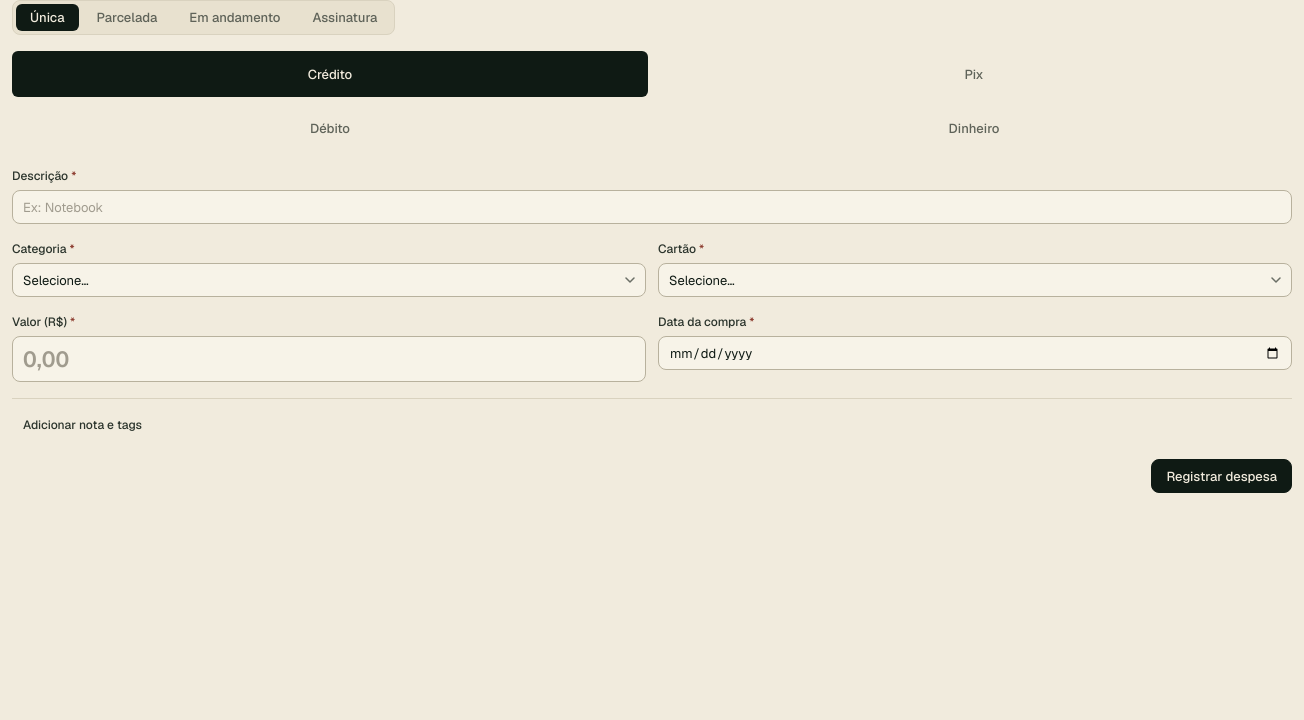
Test: nota e tags no cadastro de despesa › resume o que já foi preenchido no rótulo do gatilho
Click the button "Adicionar nota e tags": point(82, 425) [12,411,153,439]
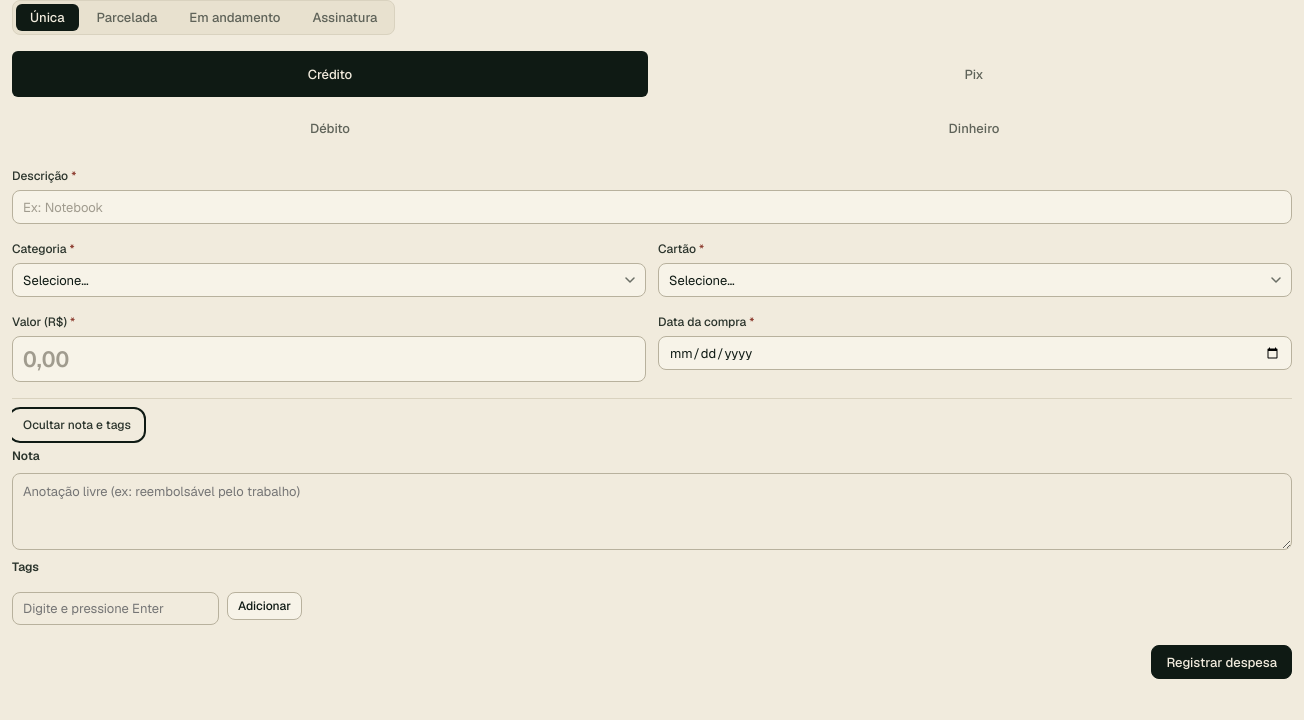
In the field named "Nova tag": point(116, 608) [12,592,219,625], type "trabalho"
Then press Enter
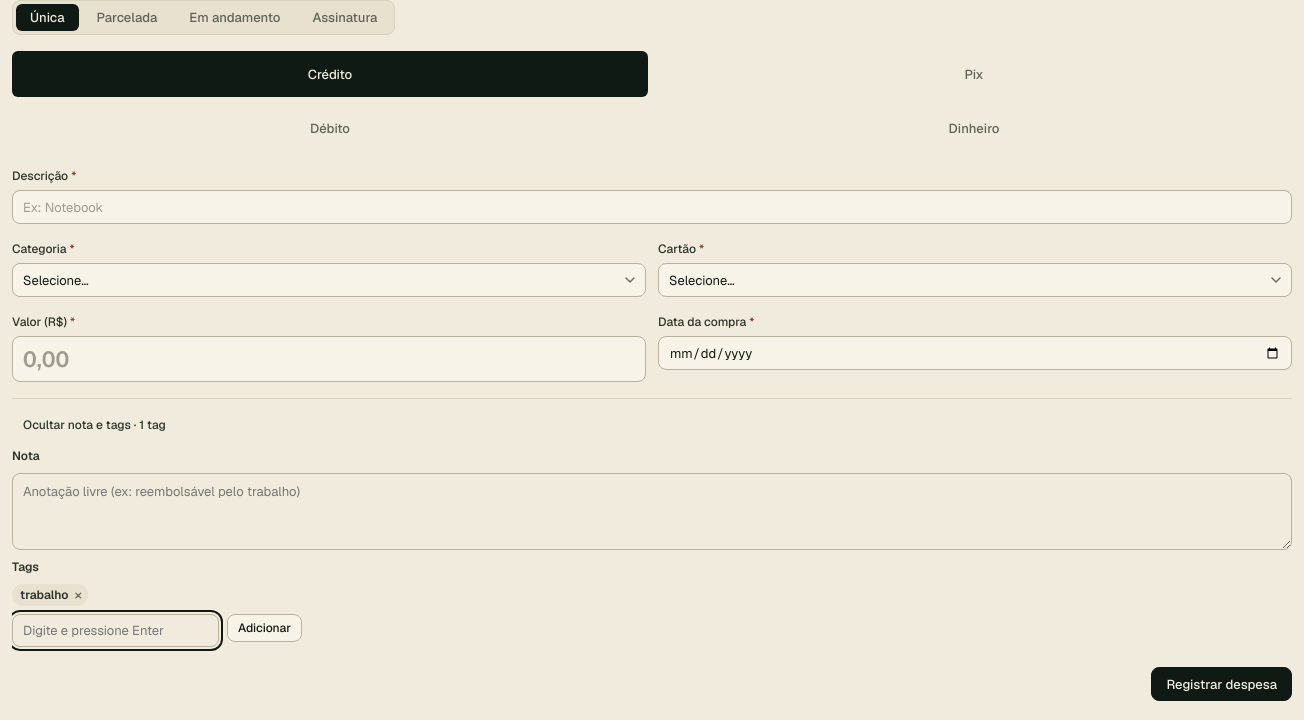
In the field named "Nova tag": point(116, 630) [12,614,219,647], type "casa"
Then press Enter
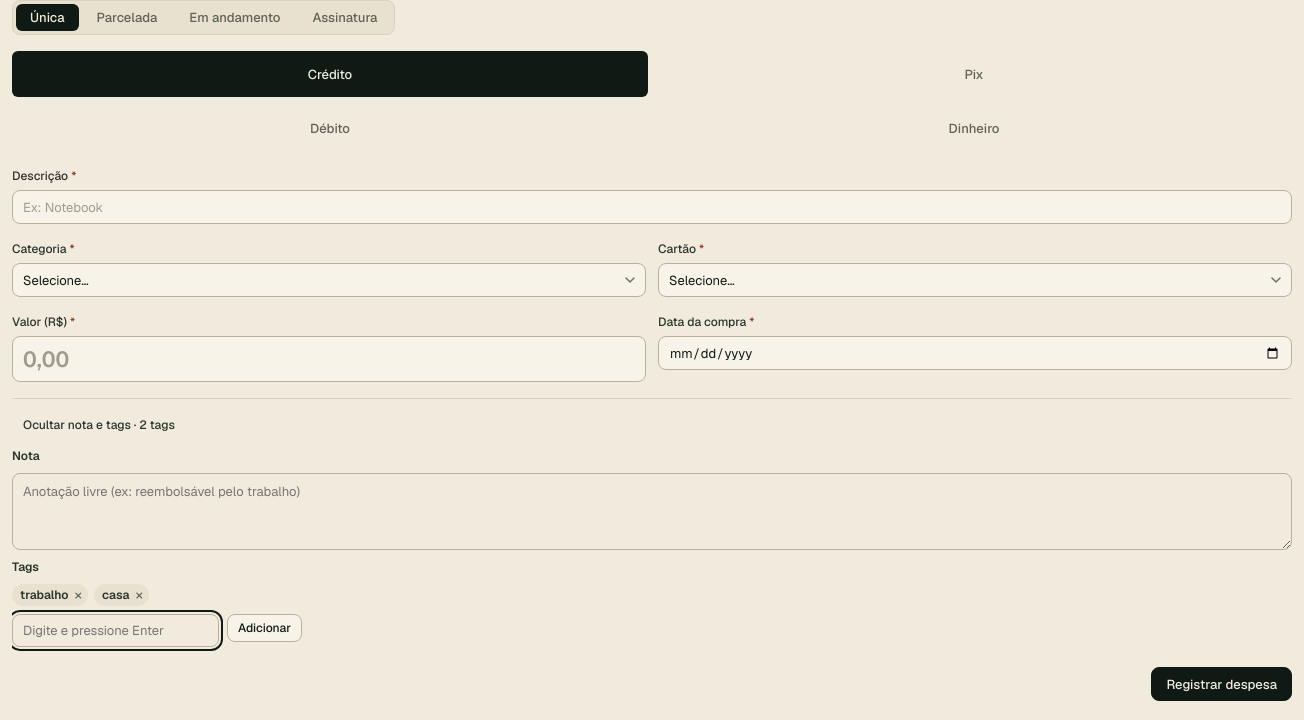
Expected: the button "Ocultar nota e tags · 2 tags" is shown, [12,411,186,439]
